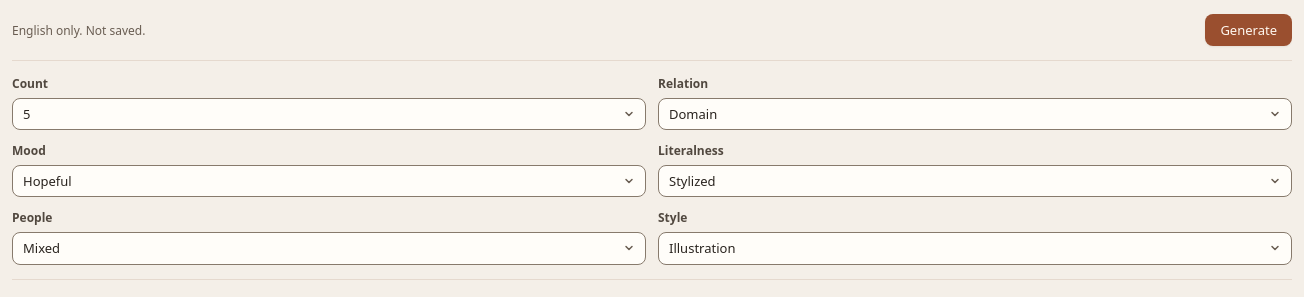
Scenario: ImagingTab run › Stop aborts the in-flight generation and shows no error
Click the button with class "action-button" at (1249,30), box [1205,14,1292,46]
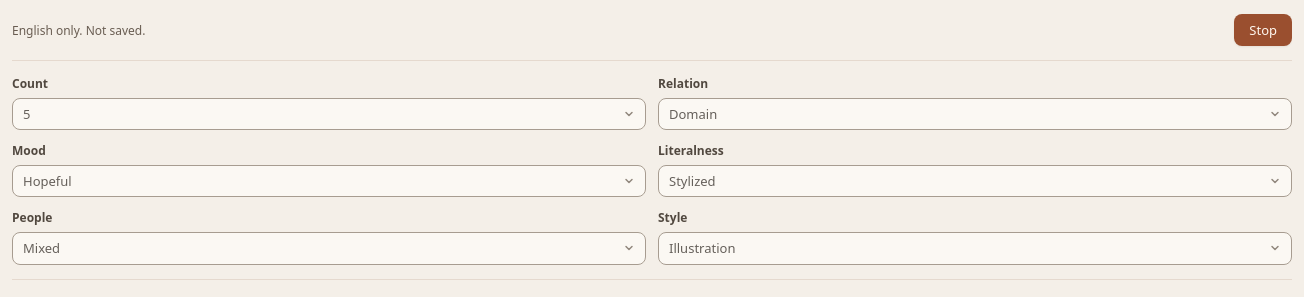
Click the button with class "action-button" at (1263,30), box [1234,14,1292,46]
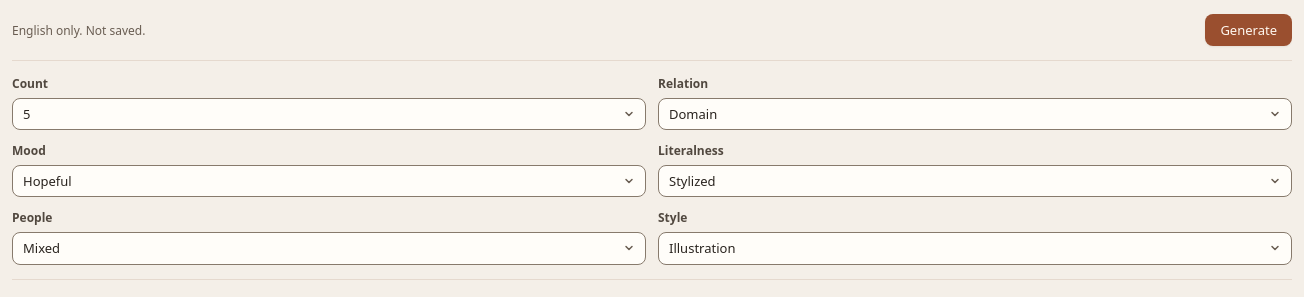
Expected: the button with class "action-button" reads "Generate", [1205,14,1292,46]
